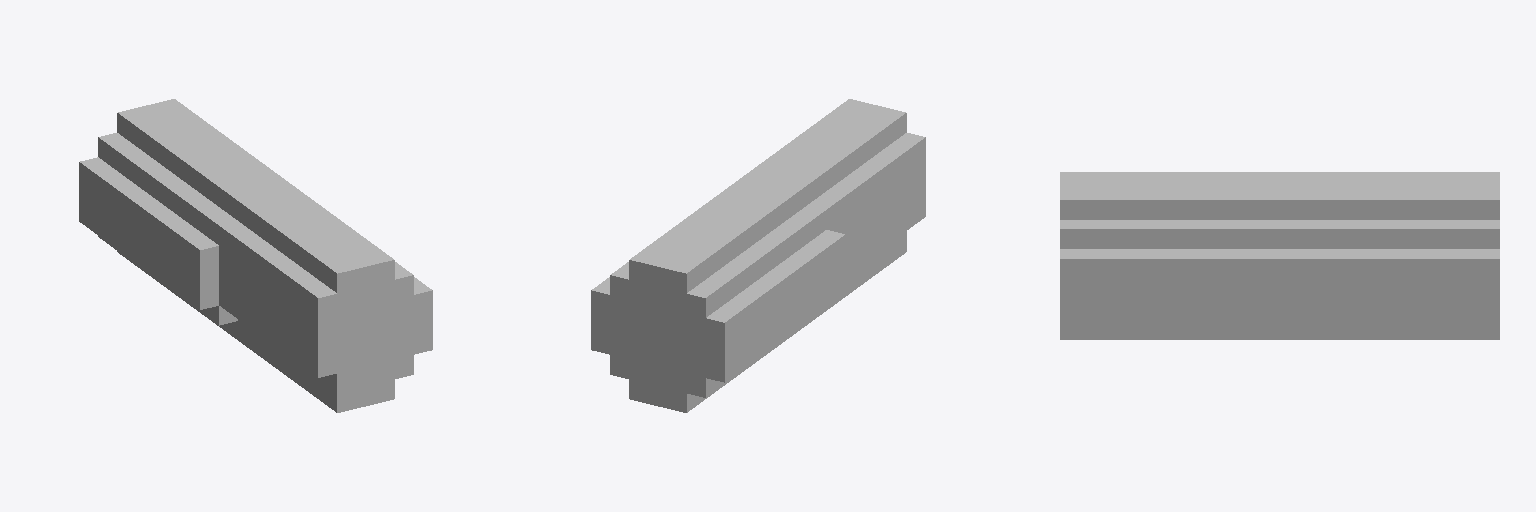
The model's file is Straight Blue Pipeline.obj.
The picture shows the model from 3 angles: view 1: azimuth 30°, elevation 25°; view 2: azimuth 150°, elevation 25°; view 3: azimuth 270°, elevation 25°; orthographic projection.
Visible parts, largest first — view 1: object 1; view 2: object 1; view 3: object 1.
Part boxes in pixels (x1,y1,x2,y2): object 1: (79, 99, 432, 412); object 1: (591, 99, 925, 412); object 1: (1060, 172, 1499, 339).
Bounding box in the file's own units: 0.7 × 0.7 × 2.